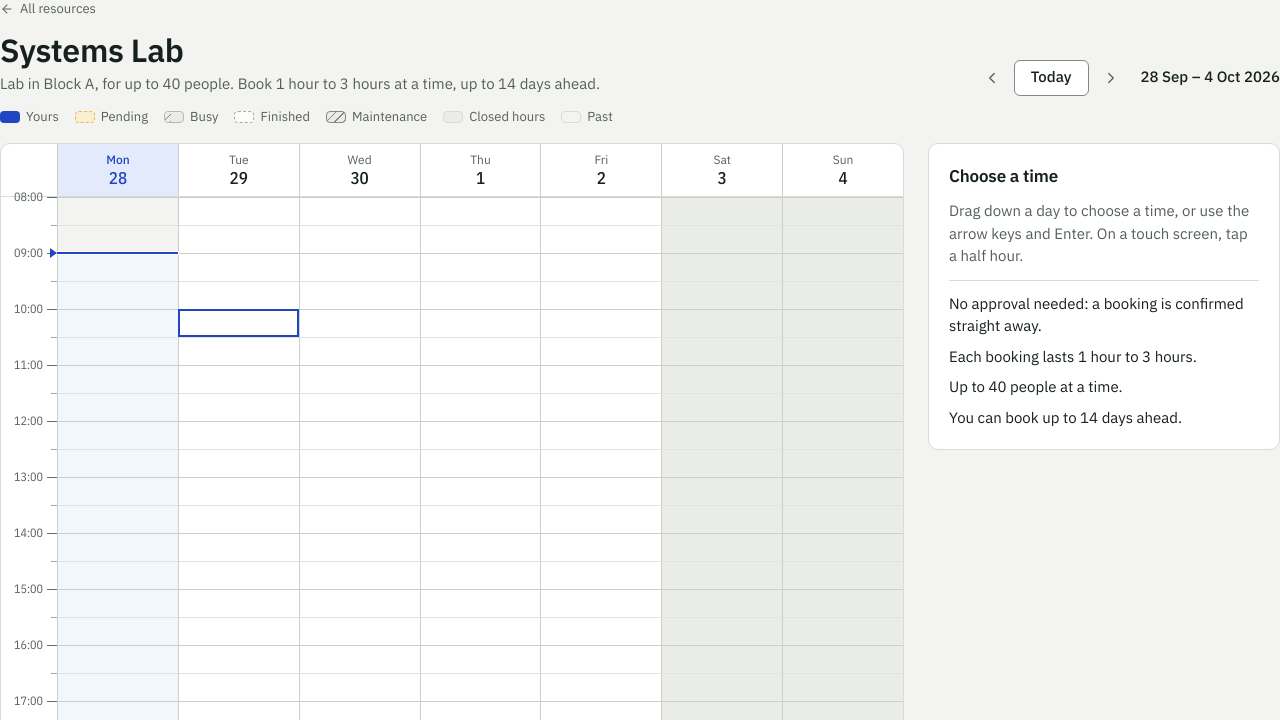
Scenario: booking from the calendar › explains SLOT_TOO_LONG in one sentence with the resource's limit, and offers no waitlist
Press Enter
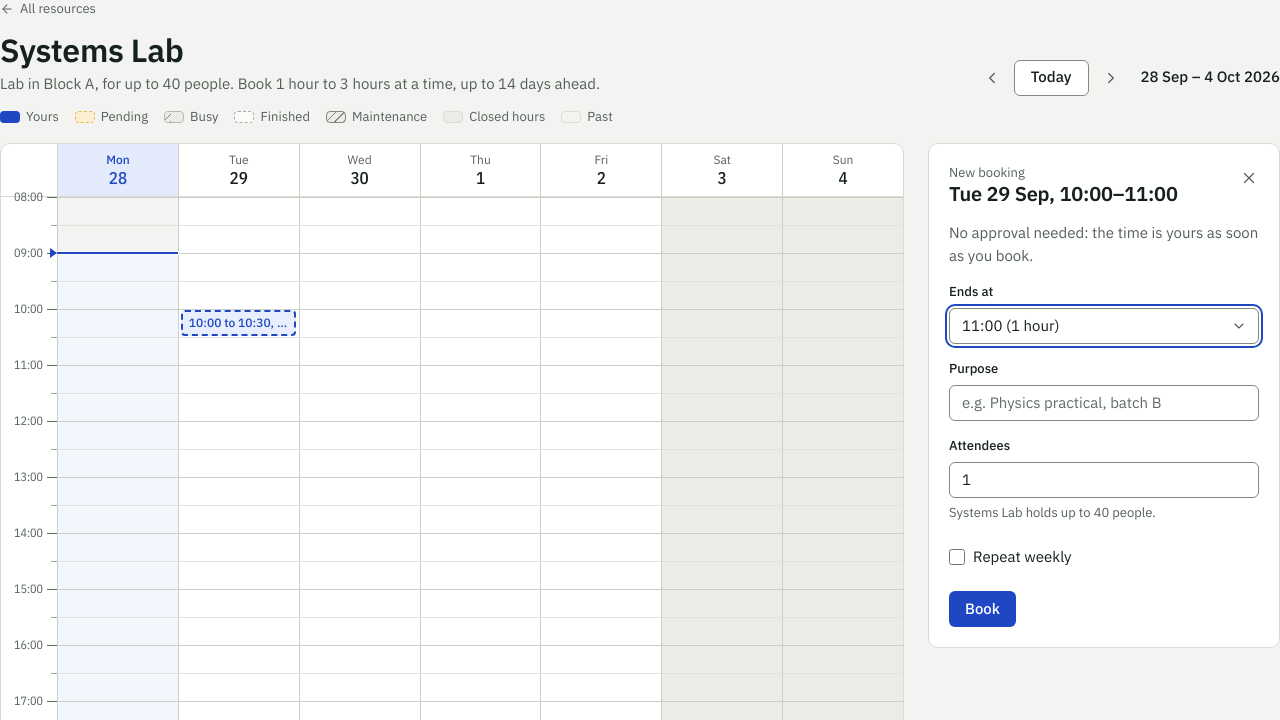
Click the button "Book".
click(982, 609)  # box [949, 591, 1016, 627]
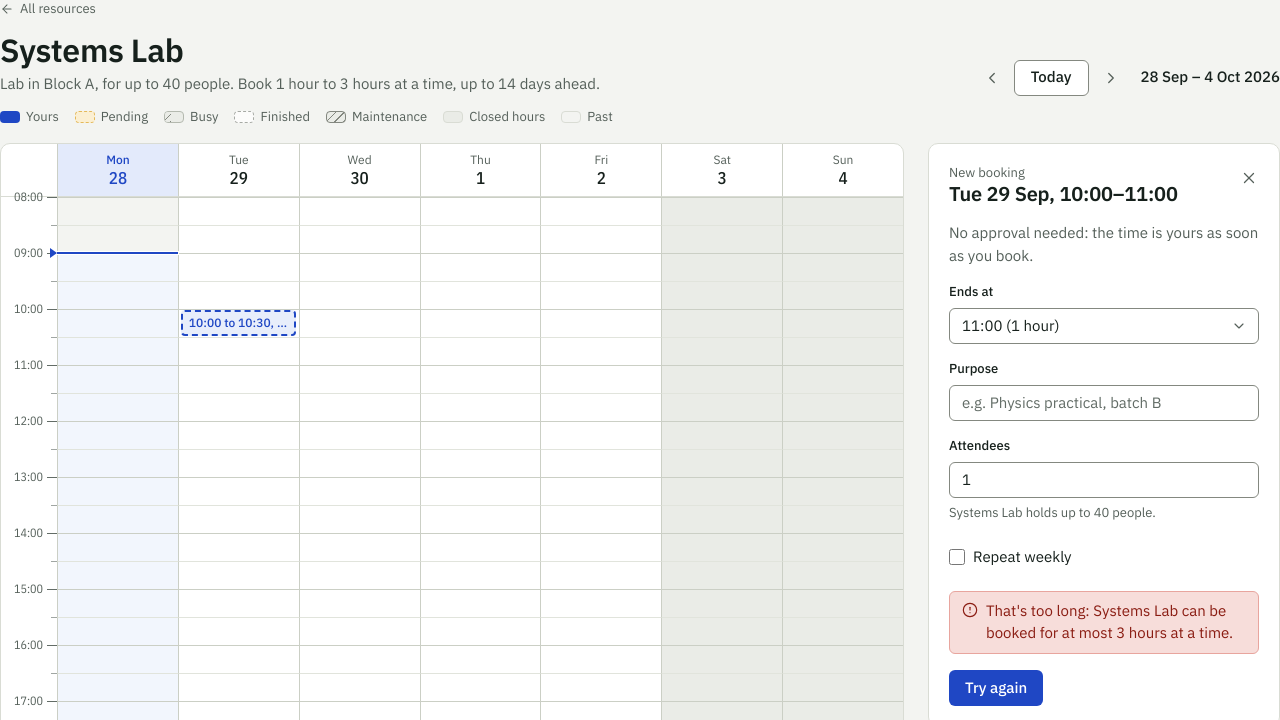
Expected: the text "That's too long: Systems Lab can be booked for at most 3 hours at a time." is shown, [986, 600, 1246, 645]
